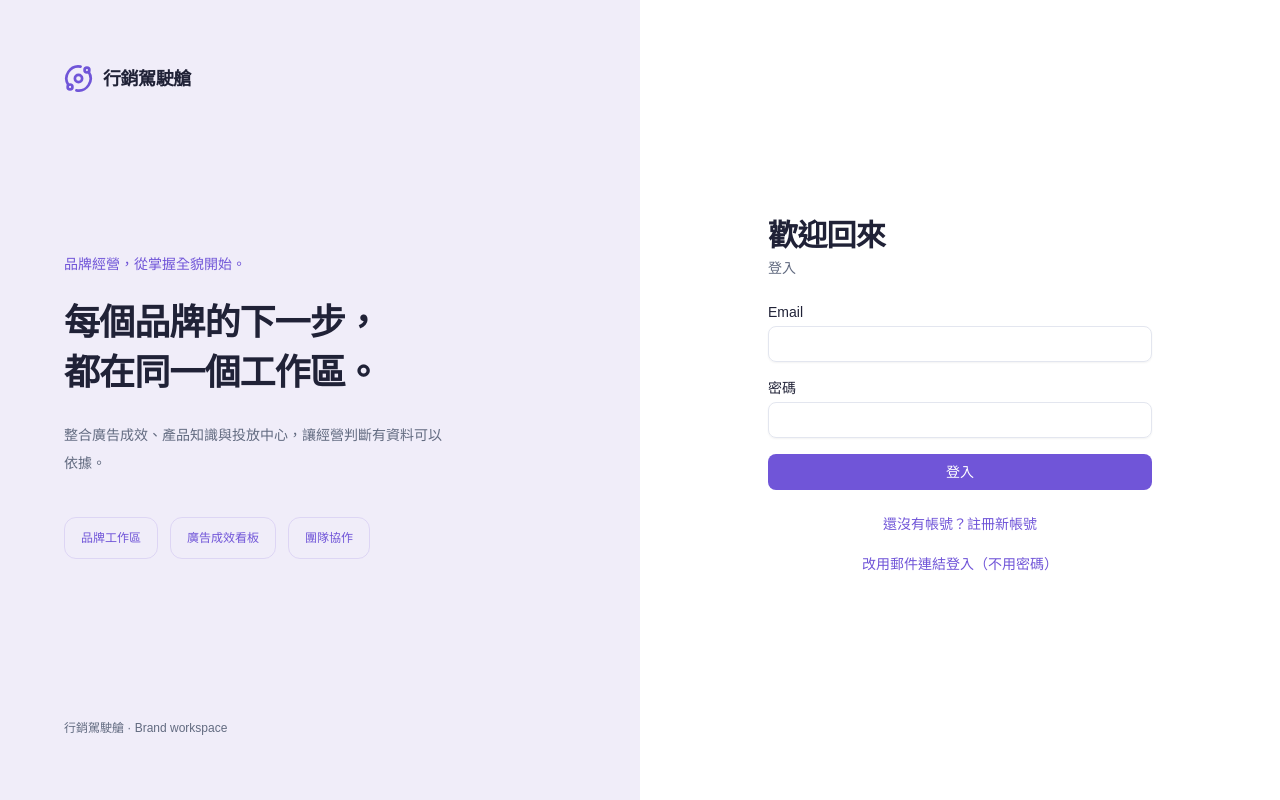
LoginPage › shows the Chinese error and drops it when the mode switches or a field changes
Type "123@example.com" into the field labelled "Email".
click(960, 344); type("123@example.com")  # box [768, 326, 1152, 362]
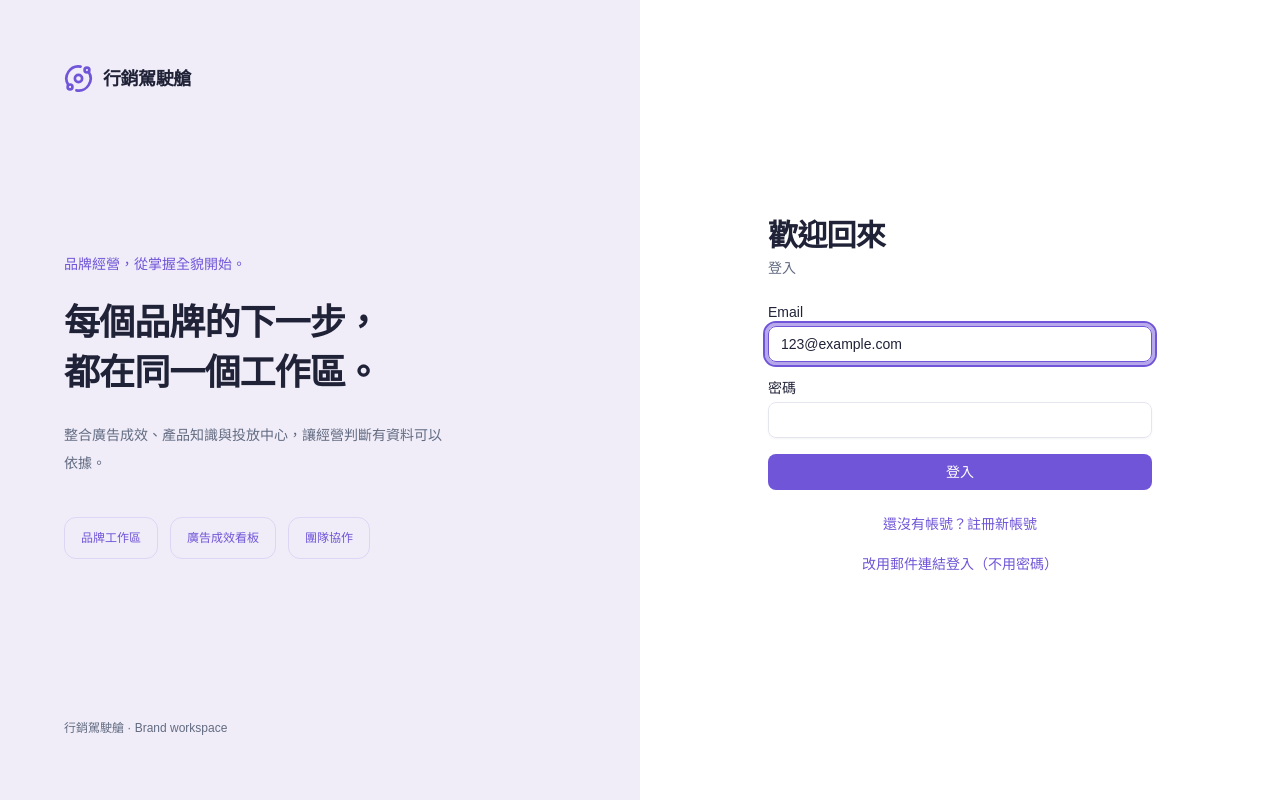
Type "wrong" into the password field labelled "密碼".
click(960, 420); type("wrong")  # box [768, 402, 1152, 438]
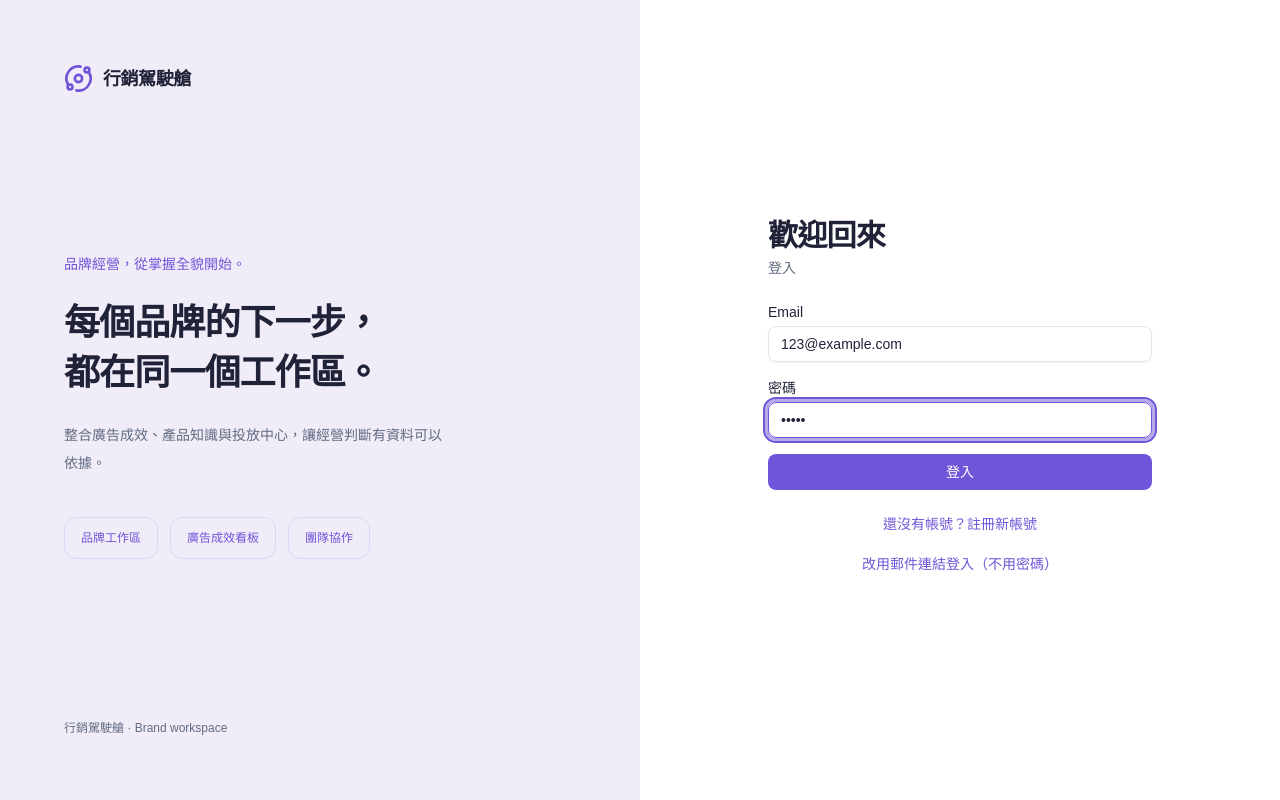
Click the button "登入".
click(960, 472)  # box [768, 454, 1152, 490]
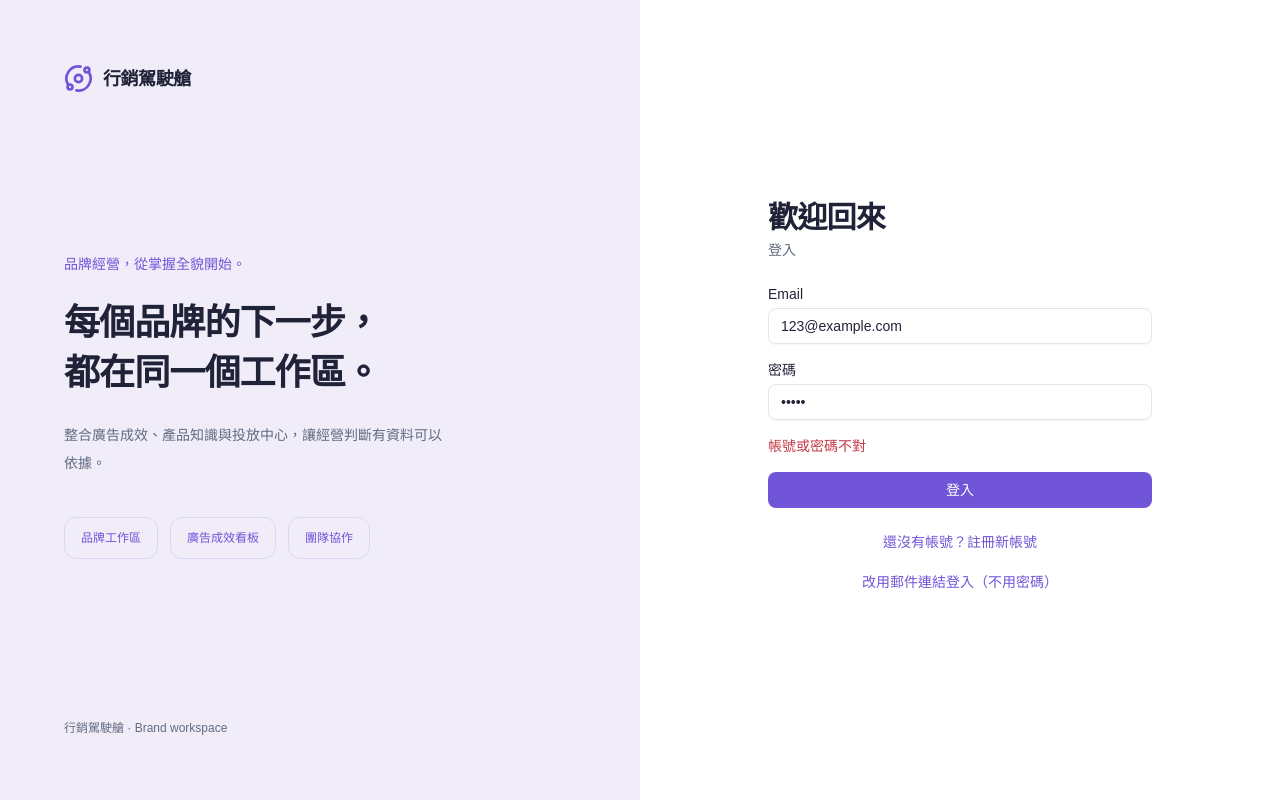
Now the message reads "帳號或密碼不對", box [768, 438, 866, 454]
Type "1" into the password field labelled "密碼".
click(960, 402); type("1")  # box [768, 384, 1152, 420]
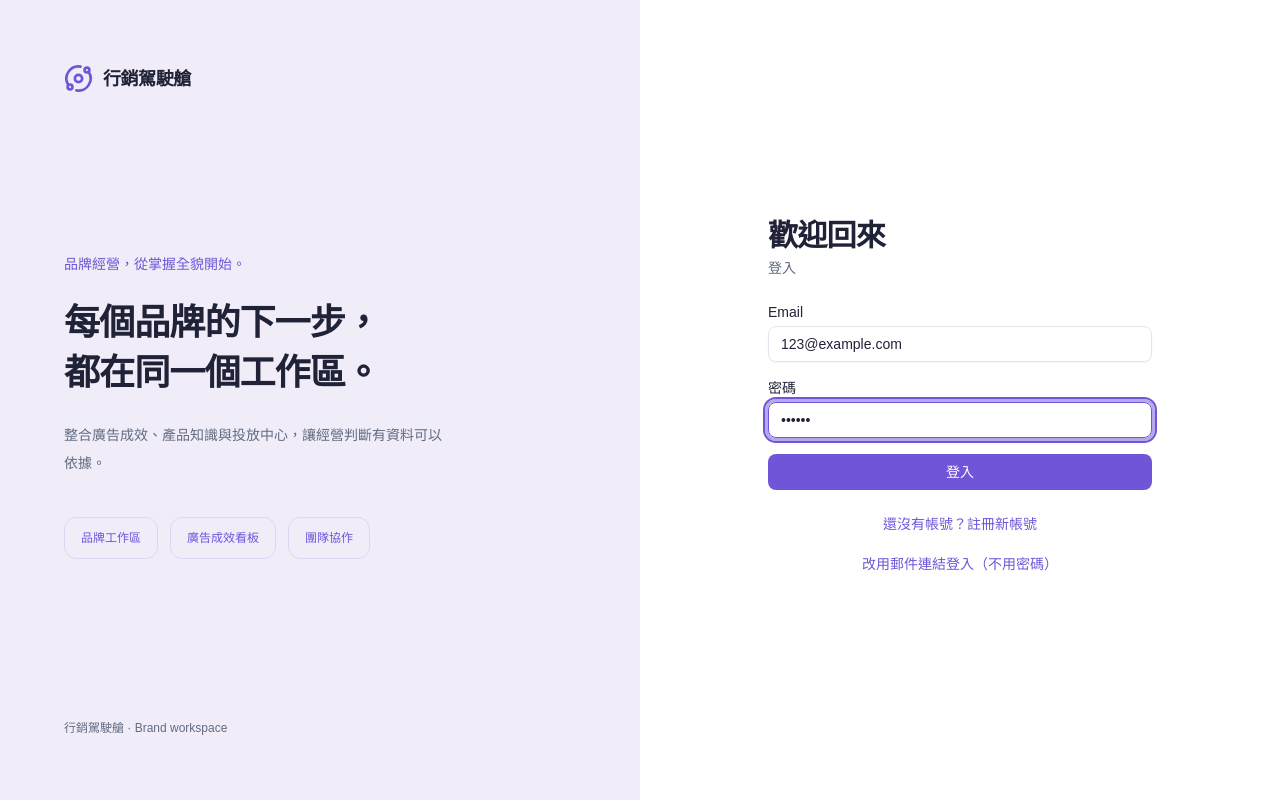
Now the message "帳號或密碼不對" is gone
Click the button "登入".
click(960, 472)  # box [768, 454, 1152, 490]
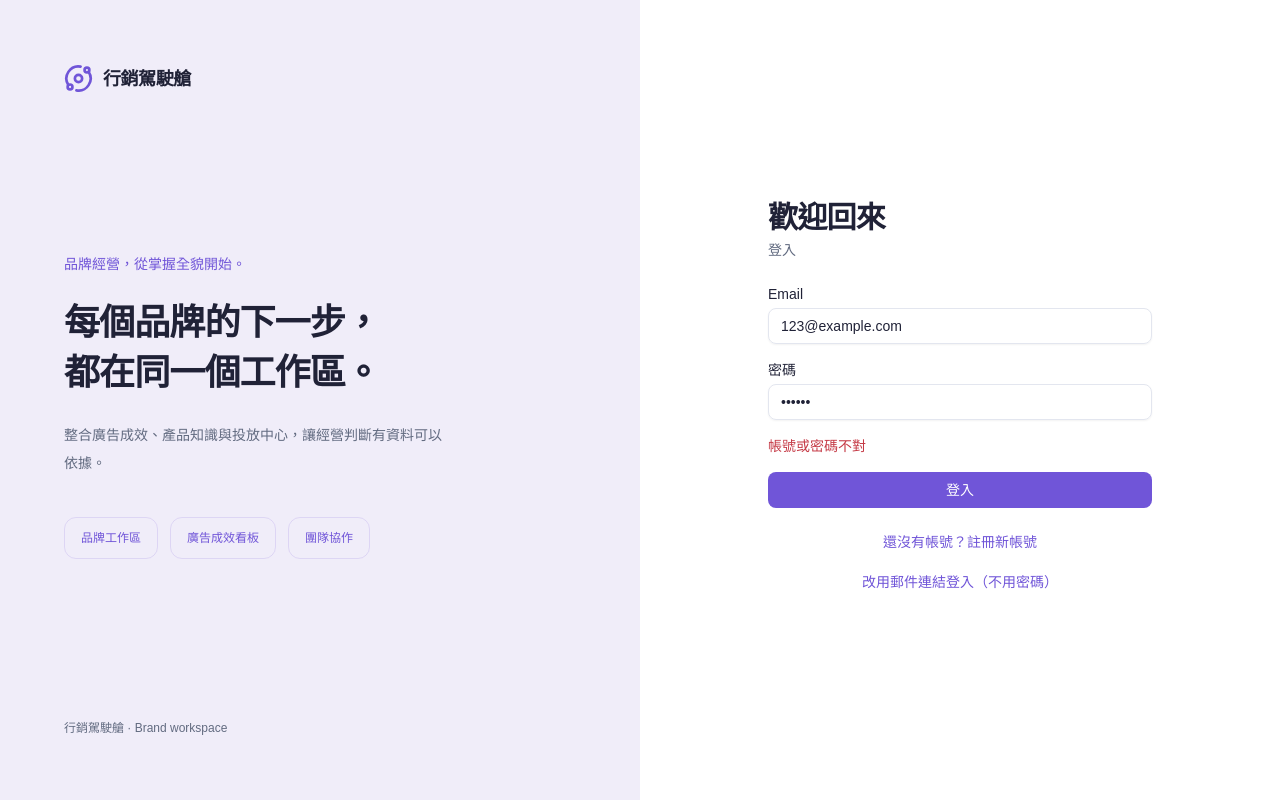
Now the message "帳號或密碼不對" is shown, box [768, 438, 866, 454]
Click the button "還沒有帳號？註冊新帳號".
click(960, 542)  # box [768, 524, 1152, 560]
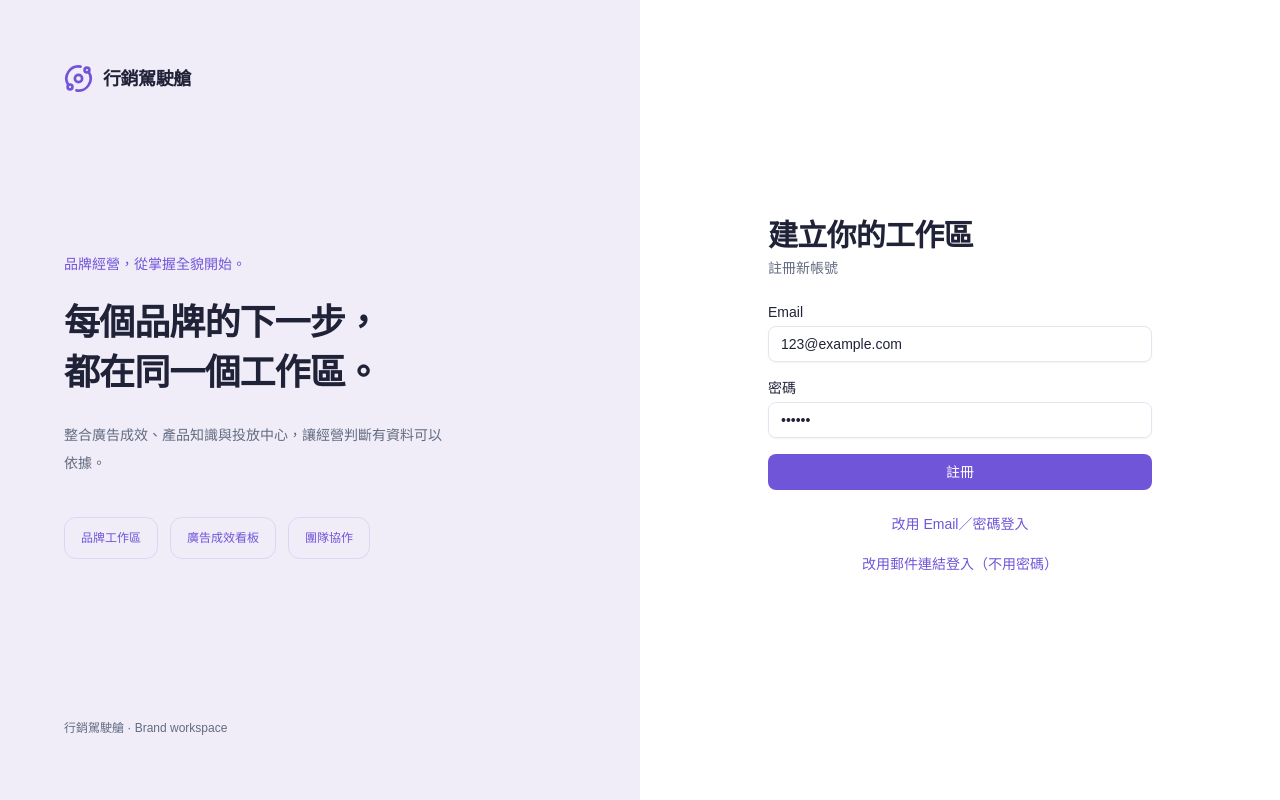
Now the message "帳號或密碼不對" is gone
